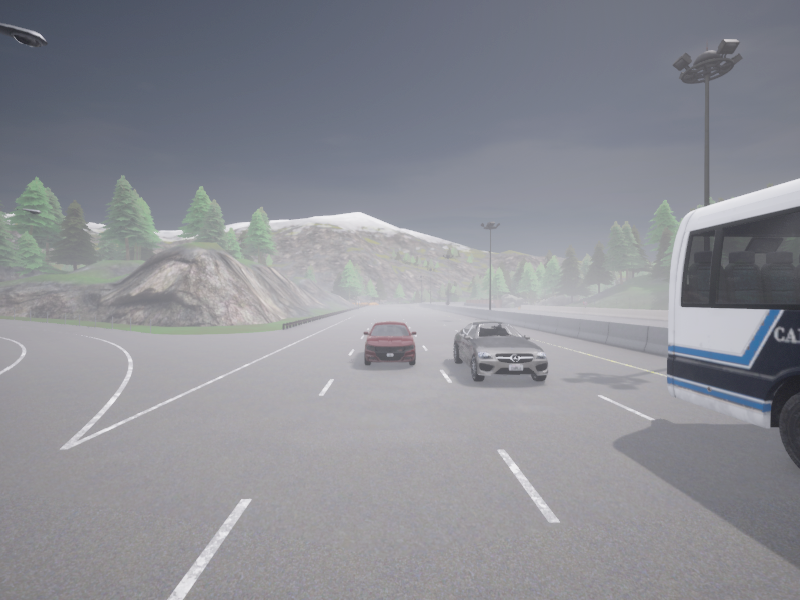vehicle: (667, 179, 799, 468), (453, 322, 547, 381), (363, 321, 416, 364), (446, 301, 449, 304)
